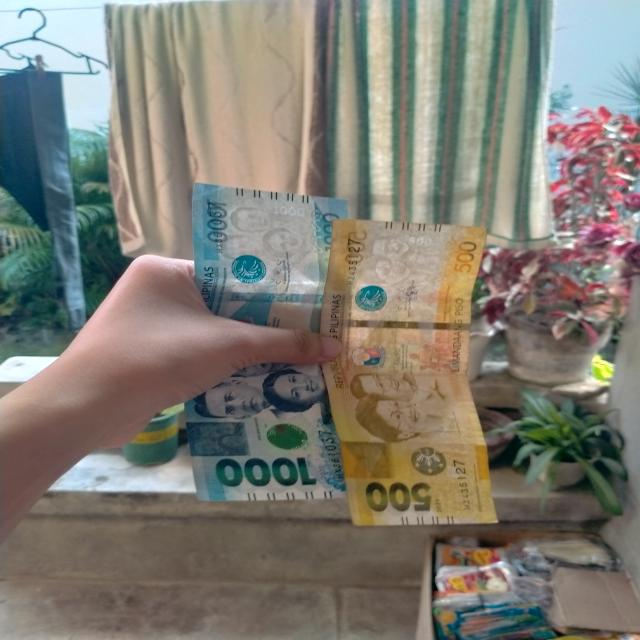concealed_value: (189, 419, 254, 459), (338, 441, 394, 478)
optically_variable_device: (257, 416, 321, 458), (400, 441, 459, 481)
security_thread: (317, 318, 473, 333), (198, 290, 325, 302)
see_through_mark: (302, 205, 328, 257)
value: (206, 453, 318, 491), (361, 479, 438, 514)
value_watermark: (266, 202, 314, 219), (400, 234, 438, 249)
watermark: (209, 204, 308, 258), (358, 236, 440, 285)
